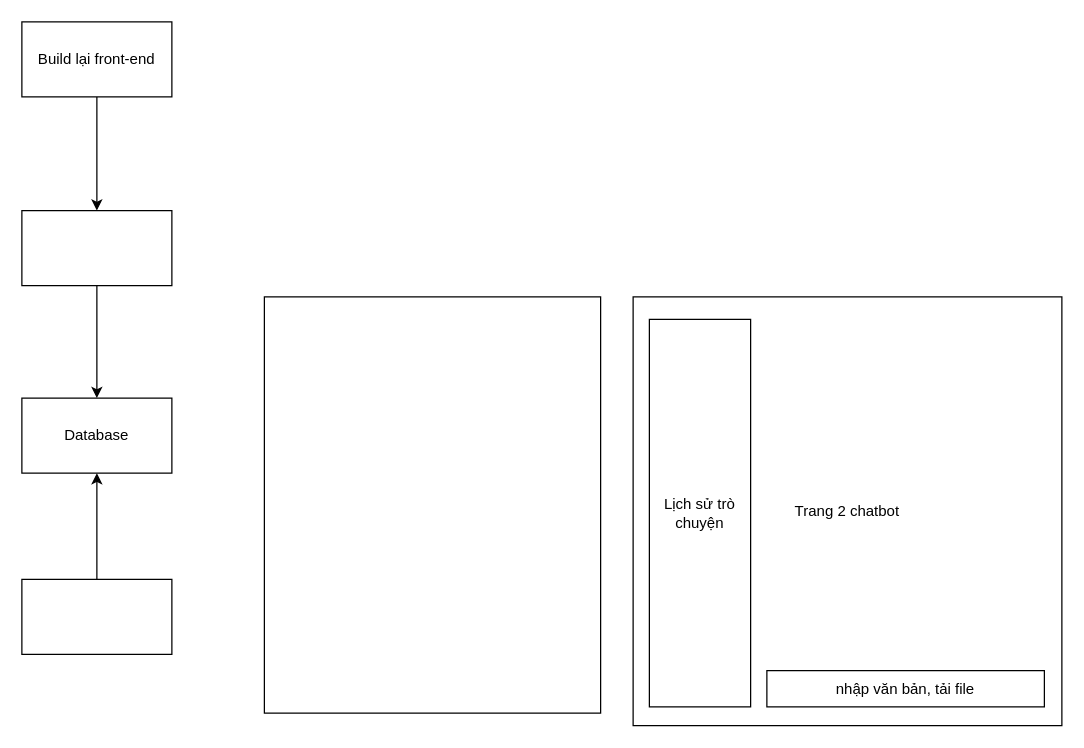
This 1084x748 diagram has some shape labels left out. Each missing label, with the centre of its shape:
Back-end: the point at 96,247
Trang 1 tạo tài khoản: the point at 432,504
Tạo tài khoản bằng gmail.com: the point at 96,616
